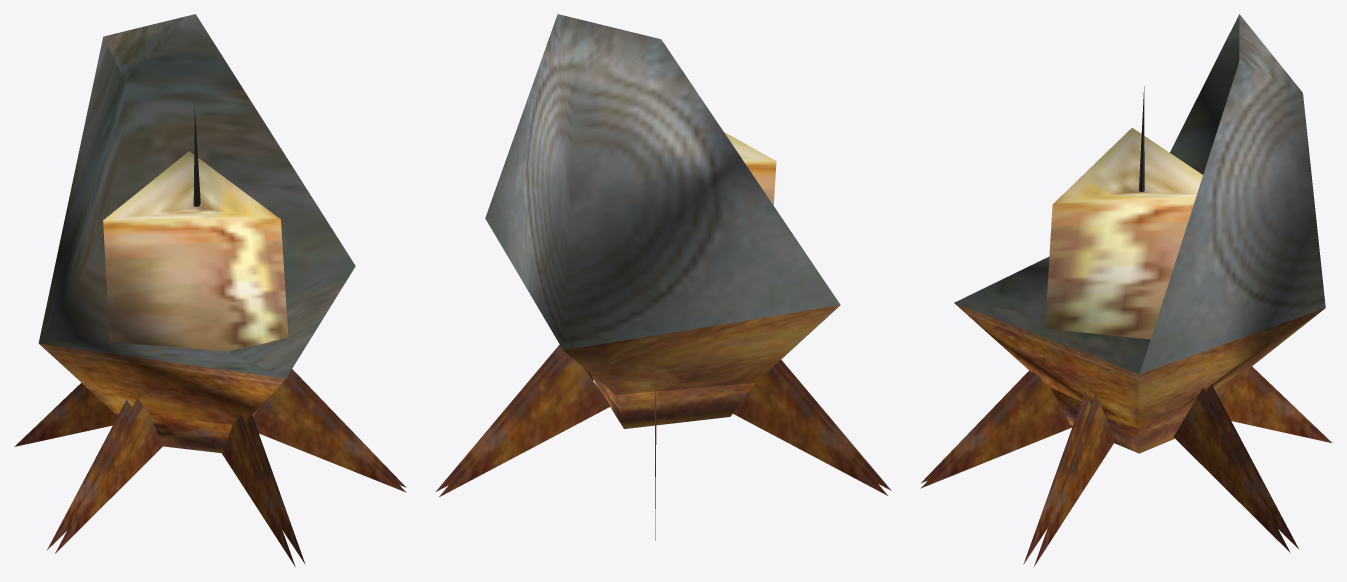
The model's file is frn_lamp_candlestick_tbl_s1_l3.fbx.
3 views of the same model, side by side, from view 1: azimuth 30°, elevation 25°; view 2: azimuth 150°, elevation 25°; view 3: azimuth 270°, elevation 25° (orthographic). The views are drawn at different scales.
Visible parts, largest first — view 1: mesh_node; view 2: mesh_node; view 3: mesh_node.
Boxes of the visible parts, bbox=[...] form: mesh_node: bbox=[14, 14, 406, 566]; mesh_node: bbox=[436, 14, 891, 540]; mesh_node: bbox=[920, 14, 1332, 567].
Bounding box in the file's own units: 0.1664 × 0.2038 × 0.1696.
